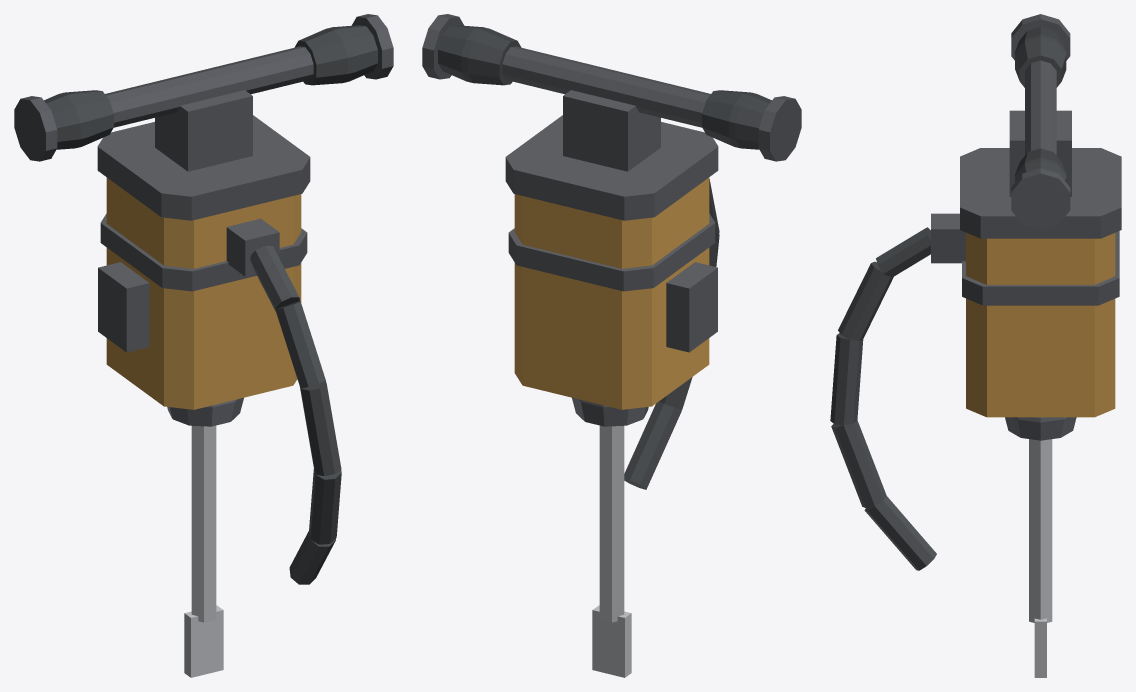
File: CT_Rocks_Jackhammer.glb
3 views of the same model, side by side, from view 1: azimuth 30°, elevation 25°; view 2: azimuth 150°, elevation 25°; view 3: azimuth 270°, elevation 25° (orthographic). The views are drawn at different scales.
Visible parts, largest first — view 1: CT_Rocks_Jackhammer; view 2: CT_Rocks_Jackhammer; view 3: CT_Rocks_Jackhammer.
Part boxes in pixels (x1=…): CT_Rocks_Jackhammer: x1=14, y1=14, x2=393, y2=677; CT_Rocks_Jackhammer: x1=422, y1=14, x2=801, y2=677; CT_Rocks_Jackhammer: x1=830, y1=14, x2=1121, y2=677.
Bounding box in the file's own units: 1.82 × 3.07 × 1.4.
